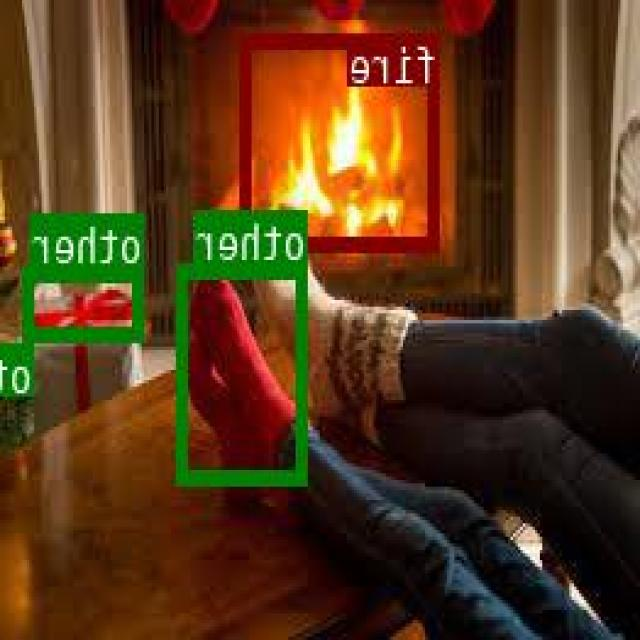fire: (243, 31, 442, 248)
other: (179, 263, 310, 482), (27, 264, 144, 338), (9, 343, 36, 375)
